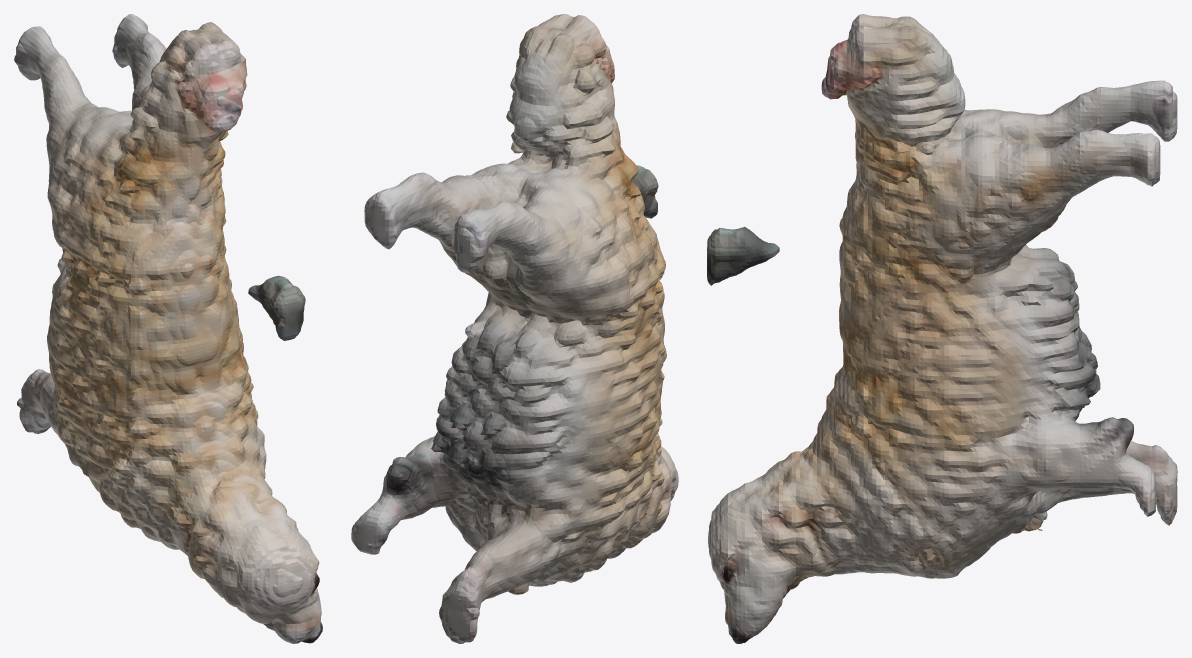
3 renders of one model, left to right at view 1: azimuth 30°, elevation 25°; view 2: azimuth 150°, elevation 25°; view 3: azimuth 270°, elevation 25°, orthographic. The views are drawn at different scales.
Parts seen in each view (by area): view 1: world; view 2: world; view 3: world.
Part boxes in pixels (box(x1,y1,x2,y2)): world: box(14, 14, 322, 643); world: box(351, 14, 678, 643); world: box(707, 14, 1177, 643).
Bounding box in the file's own units: 0.3797 × 1.07 × 0.7581.
